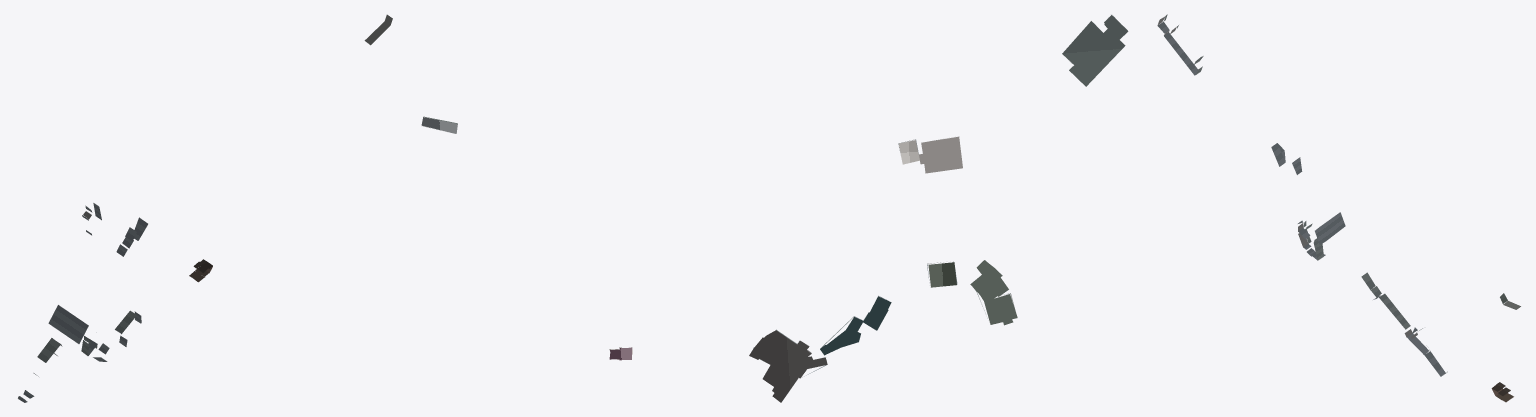
Rendered from tile_LOD3_r7_c5.glb.
The picture shows the model from 3 angles, left to right: view 1: azimuth 30°, elevation 25°; view 2: azimuth 150°, elevation 25°; view 3: azimuth 270°, elevation 25°; orthographic projection. The views are drawn at different scales.
Bounding box in the file's own units: 255 × 152 × 176.
Materials: 19 (16 with a texture image).
